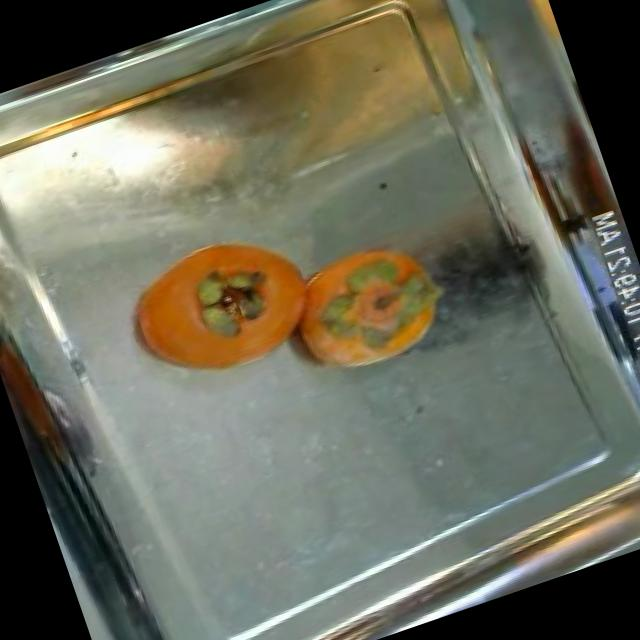Fruit: (264, 217, 472, 400)
